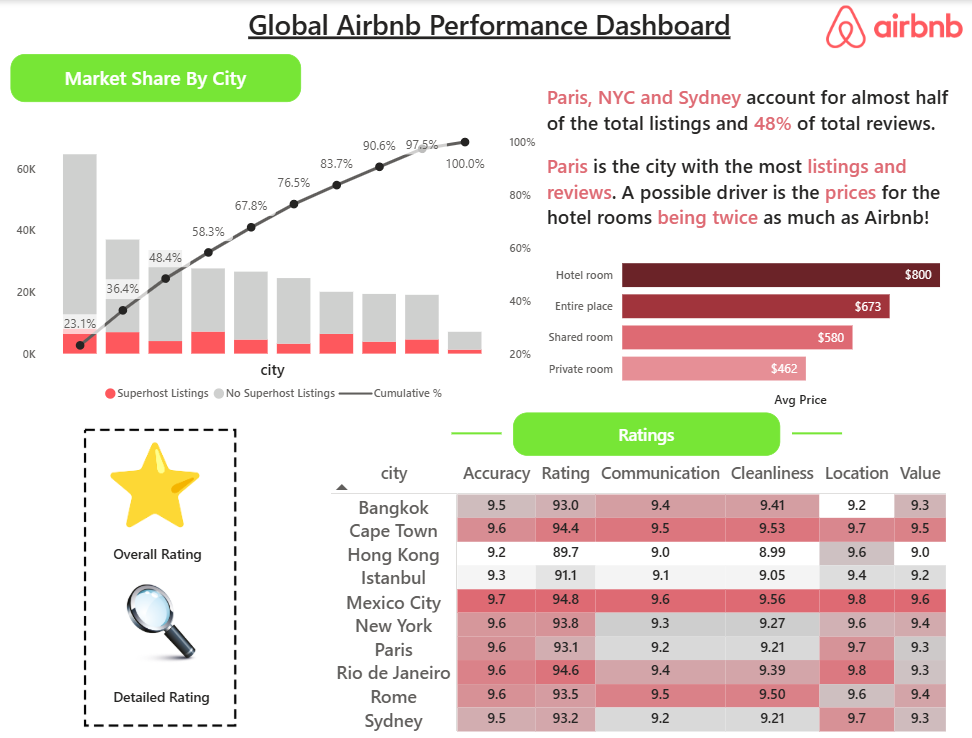

The page's visual inventory and layout, read from the dashboard file:
{"tool":"powerbi","page":{"name":"Ratings","canvas":[960,720],"ordinal":1},"visuals":[{"type":"textbox","box":[217.7,0,524.6,102],"z":0},{"type":"image","box":[785.3,0,174.9,51.8],"z":1000},{"type":"textbox","box":[16.2,51.8,281.7,47],"z":2000},{"type":"lineStackedColumnComboChart","fields":{"Category":["Listings.city"],"Y":["Listings.Superhost Listings","Listings.No Superhost Listings"],"Y2":["Listings.Cumulative %"]},"box":[16.2,119.8,514.9,280.1],"z":3000},{"type":"barChart","fields":{"Category":["Listings.room_type"],"Y":["Listings.Avg Price"]},"box":[531.1,229.9,429.1,170],"z":4000},{"type":"image","box":[0,399.9,322.2,320.6],"z":6000},{"type":"image","box":[111.7,561.9,98.8,87.4],"z":7000},{"type":"image","box":[105.2,421,102,102],"z":8000},{"type":"pivotTable","fields":{"Rows":["Listings.city"],"Values":["Listings.Accuracy","Listings.Rating","Listings.Communication","Listings.Cleanliness","Listings.Location","Listings.Value"]},"box":[322.2,442,638,278.5],"z":9000},{"type":"textbox","box":[503.6,399.9,259.1,42.1],"z":10000},{"type":"shape","box":[774,270.4,48.6,299.6],"z":11000},{"type":"shape","box":[443.7,270.4,48.6,299.6],"z":12000},{"type":"textbox","box":[531.1,76.1,416.1,166.8],"z":13000},{"type":"textbox","box":[110.1,523,106.9,38.9],"z":14000},{"type":"textbox","box":[110.1,660.6,106.9,37.2],"z":15000}]}

Visuals, with their boxes in screenshot pixels (x1, y1, x2, y2), scaled from the page's 960x720 canvas onto the 972x738 screenshot:
textbox: region(220, 0, 752, 105)
image: region(795, 0, 971, 53)
textbox: region(16, 53, 302, 101)
lineStackedColumnComboChart - Listings.city x Listings.Superhost Listings: region(16, 123, 538, 410)
barChart - Listings.room_type x Listings.Avg Price: region(538, 236, 971, 410)
image: region(0, 410, 326, 737)
image: region(113, 576, 213, 666)
image: region(107, 432, 210, 536)
pivotTable - Listings.city x Listings.Accuracy: region(326, 453, 971, 737)
textbox: region(510, 410, 772, 453)
shape: region(784, 277, 833, 584)
shape: region(449, 277, 498, 584)
textbox: region(538, 78, 959, 249)
textbox: region(111, 536, 220, 576)
textbox: region(111, 677, 220, 715)
